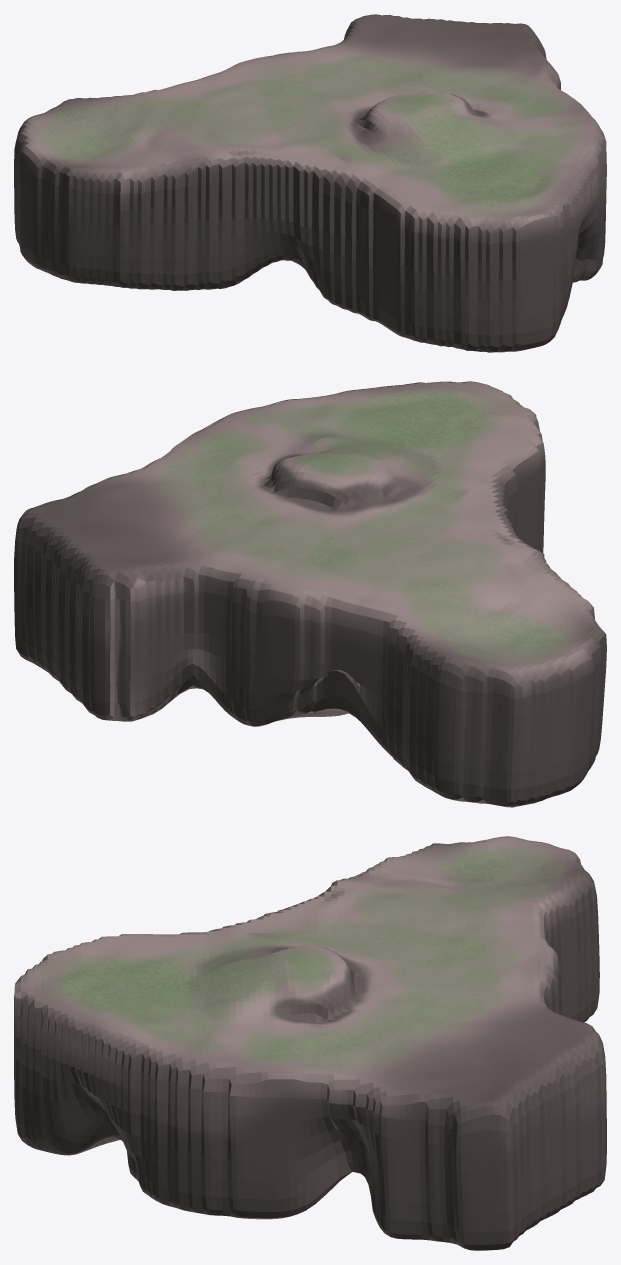
File: Level2.fbx
3 views of the same model, one above another, from view 1: azimuth 30°, elevation 25°; view 2: azimuth 150°, elevation 25°; view 3: azimuth 270°, elevation 25° (orthographic). The views are drawn at different scales.
Parts seen in each view (by area): view 1: Plane; view 2: Plane; view 3: Plane.
Part boxes in pixels (left/top/right/bottom): Plane: left=14, top=14, right=606, bottom=352; Plane: left=14, top=381, right=606, bottom=807; Plane: left=14, top=836, right=606, bottom=1250.
Bounding box in the file's own units: 122894 × 37446 × 109206.
